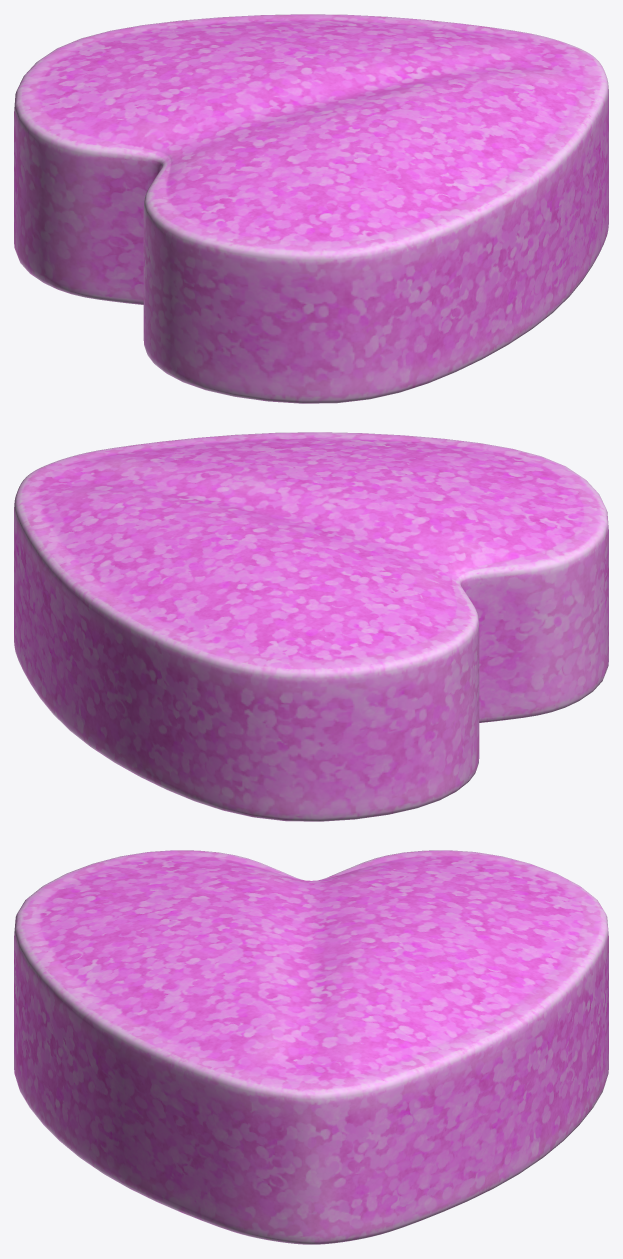
The model's file is heartpill.glb.
3 views of the same model, one above another, from view 1: azimuth 30°, elevation 25°; view 2: azimuth 150°, elevation 25°; view 3: azimuth 270°, elevation 25° (orthographic).
Visible parts, largest first — view 1: Heart Hoghpoly; view 2: Heart Hoghpoly; view 3: Heart Hoghpoly.
Part boxes in pixels (x1,y1,x2,y2): Heart Hoghpoly: (14,14,608,403); Heart Hoghpoly: (14,432,608,821); Heart Hoghpoly: (14,850,608,1244).
Size of the model in its own units: 0.7249 by 0.2798 by 0.7399.
1 material, 1 textured.
